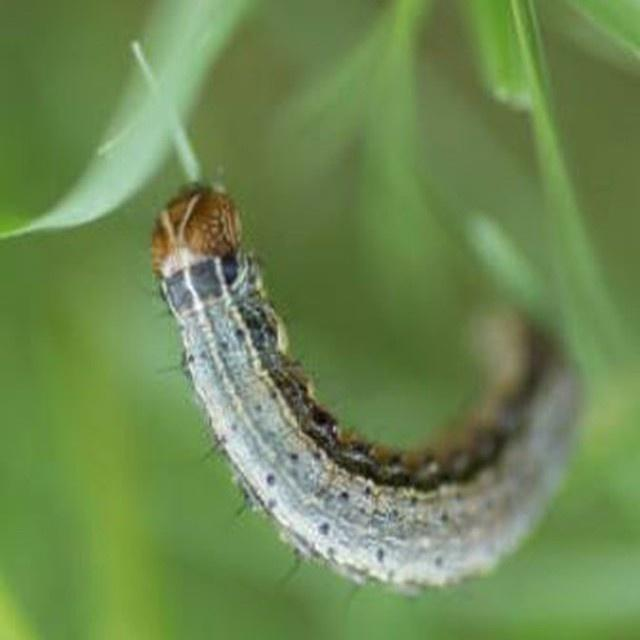gusano_cogollero: (146, 187, 574, 590)
